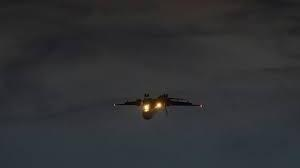Plane: (106, 86, 223, 126)
